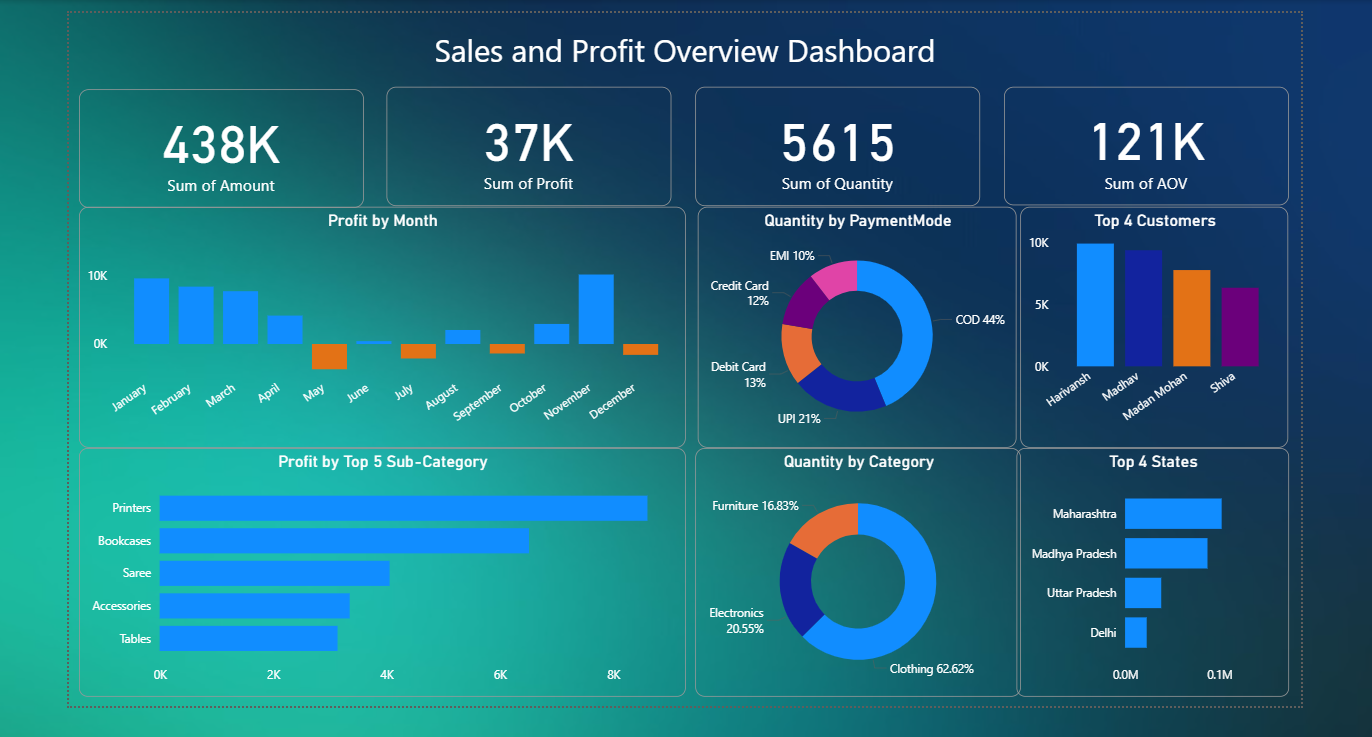

The dashboard page shown, as its layout file describes it:
{"tool":"powerbi","page":{"name":"Page 1","canvas":[1280,720],"ordinal":0},"visuals":[{"type":"columnChart","fields":{"Category":["Orders.Order Date.Variation.Date Hierarchy.Month","Orders.Order Date.Variation.Date Hierarchy.Day"],"Y":["Details.Profit"]},"box":[10,201.4,630,250],"z":0},{"type":"barChart","title":" Profit by Top 5 Sub-Category","fields":{"Category":["Details.Sub-Category"],"Y":["Details.Profit"]},"box":[10,451.4,630,258.6],"z":1000},{"type":"donutChart","title":"Quantity by Category","fields":{"Category":["Details.Category"],"Y":["Details.Quantity"]},"box":[650,451.4,338.6,258.6],"z":2000},{"type":"donutChart","title":"Quantity by PaymentMode","fields":{"Y":["Details.Quantity"],"Category":["Details.PaymentMode"]},"box":[652.9,201.4,331.4,250],"z":3000},{"type":"card","fields":{"Values":["Details.Amount"]},"box":[10,78.6,295.7,122.9],"z":4000},{"type":"card","fields":{"Values":["Details.Profit"]},"box":[330,77.1,295.7,124.3],"z":5000},{"type":"card","fields":{"Values":["Details.Quantity"]},"box":[650,77.1,295.7,124.3],"z":6000},{"type":"card","fields":{"Values":["Details.AOV"]},"box":[971.4,77.1,295.7,122.9],"z":7000},{"type":"barChart","title":"Top 4 States","fields":{"Category":["Orders.State"],"Y":["Details.Amount"]},"box":[984.3,451.4,282.9,258.6],"z":8000},{"type":"columnChart","title":"Top 4 Customers","fields":{"Category":["Orders.CustomerName"],"Y":["Details.Amount"]},"box":[988.6,201.4,278.6,250],"z":9000},{"type":"textbox","box":[0,11.4,1280,59],"z":10000}]}

Visuals, with their boxes on the page's 1280x720 design canvas (x1, y1, x2, y2). These are canvas units, not pixel positions in the 1372x737 screenshot, which may show the page scaled, cropped or inside an application window:
columnChart - Orders.Order Date.Variation.Date Hierarchy.Month x Orders.Order Date.Variation.Date Hierarchy.Day: detection(10, 201, 640, 451)
" Profit by Top 5 Sub-Category" barChart: detection(10, 451, 640, 710)
"Quantity by Category" donutChart: detection(650, 451, 989, 710)
"Quantity by PaymentMode" donutChart: detection(653, 201, 984, 451)
card - Details.Amount: detection(10, 79, 306, 202)
card - Details.Profit: detection(330, 77, 626, 201)
card - Details.Quantity: detection(650, 77, 946, 201)
card - Details.AOV: detection(971, 77, 1267, 200)
"Top 4 States" barChart: detection(984, 451, 1267, 710)
"Top 4 Customers" columnChart: detection(989, 201, 1267, 451)
textbox: detection(0, 11, 1280, 70)
